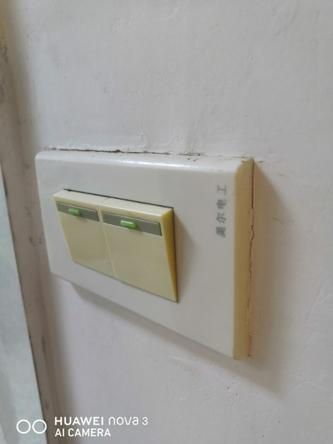switch: (97, 189, 187, 306), (50, 181, 116, 284)
